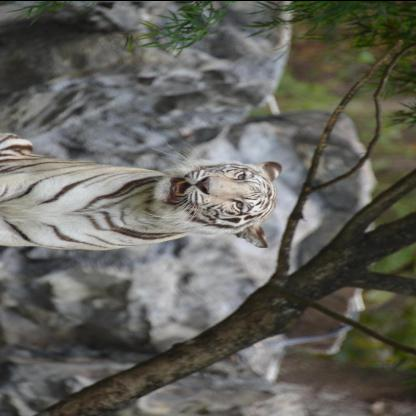tiger: (136, 154, 298, 250)
